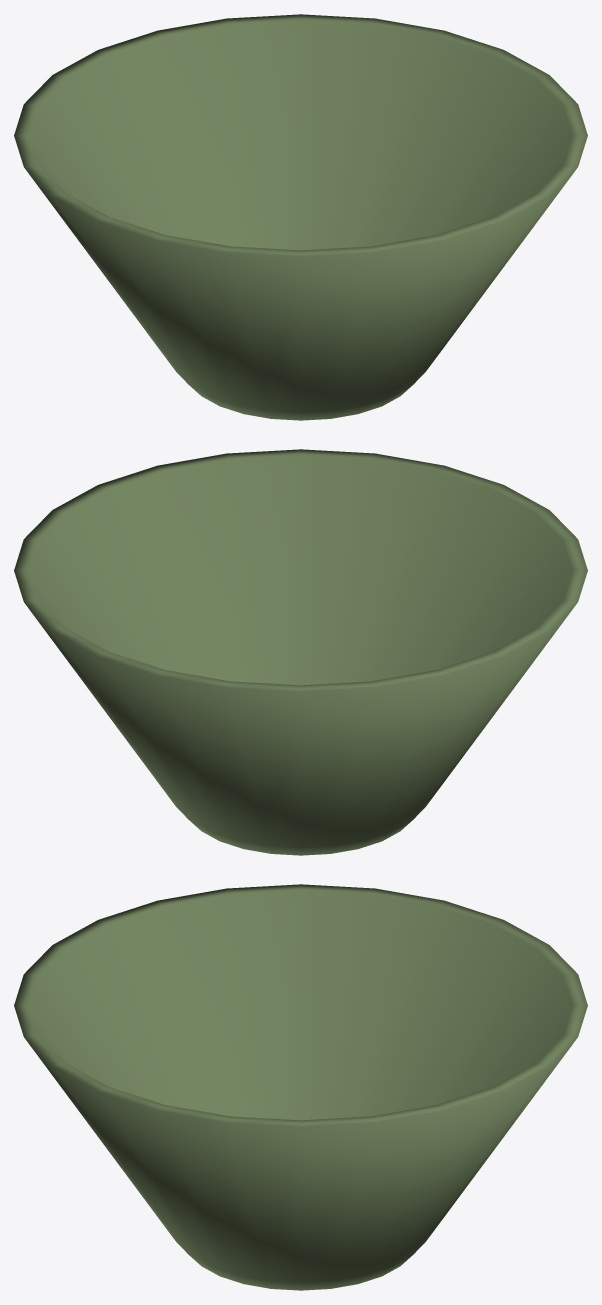
Rendered from i_bowl_4.glb.
3 renders of one model, top to bottom at view 1: azimuth 30°, elevation 25°; view 2: azimuth 150°, elevation 25°; view 3: azimuth 270°, elevation 25°, orthographic.
Visible parts, largest first — view 1: o; view 2: o; view 3: o.
Part boxes in pixels (x1,y1,x2,y2): o: (14,14,587,420); o: (14,449,587,855); o: (14,884,587,1290).
Size of the model in its own units: 0.22 by 0.1 by 0.22.
